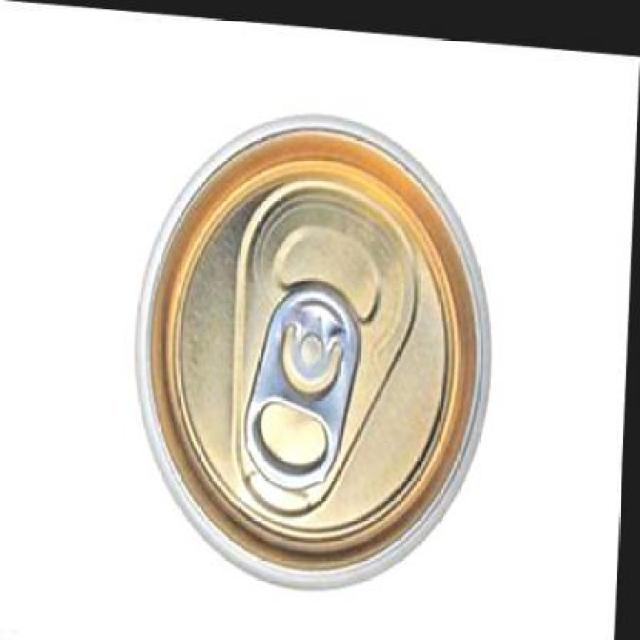Metal: (131, 102, 499, 597)
